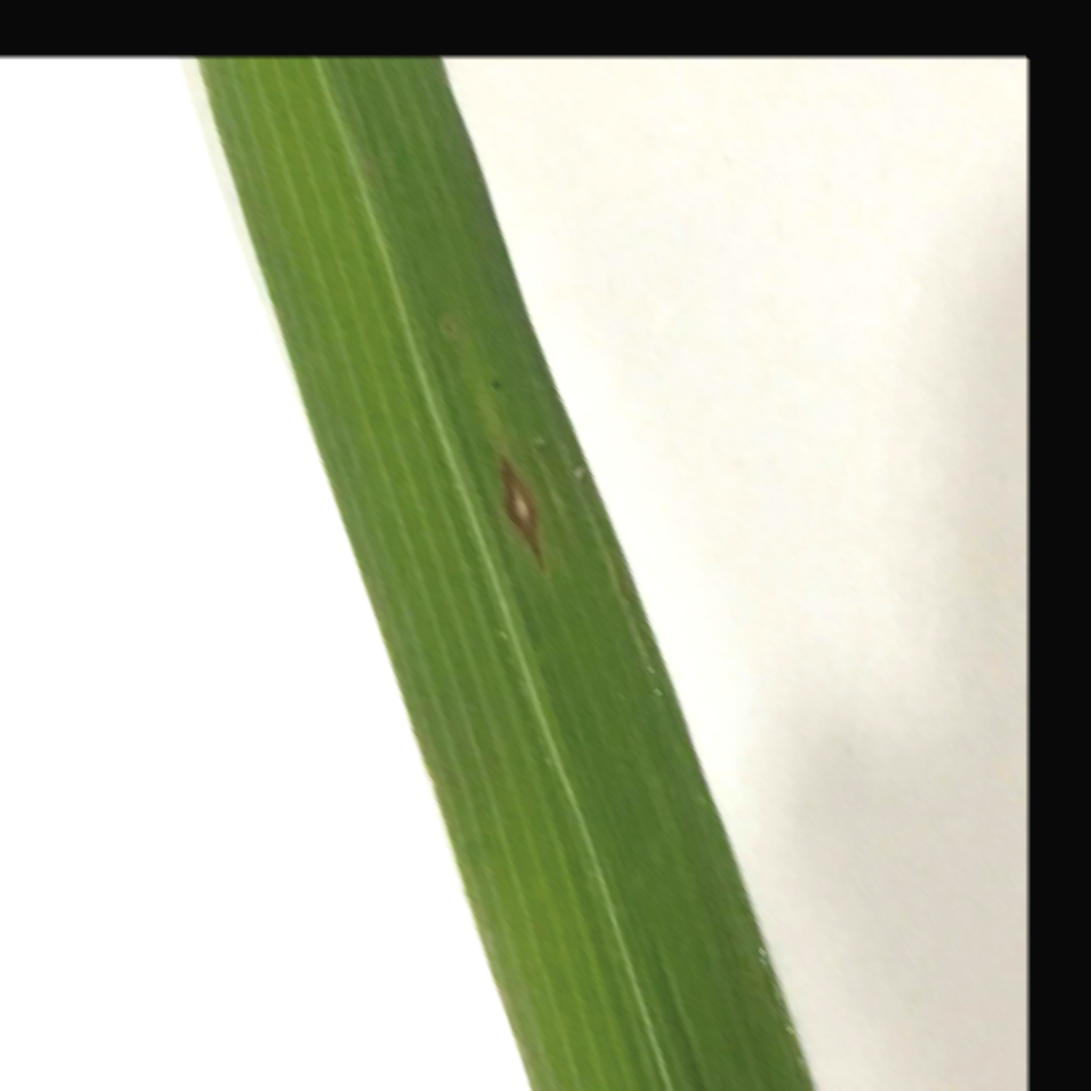Brown_Spot: (487, 391, 556, 586)
